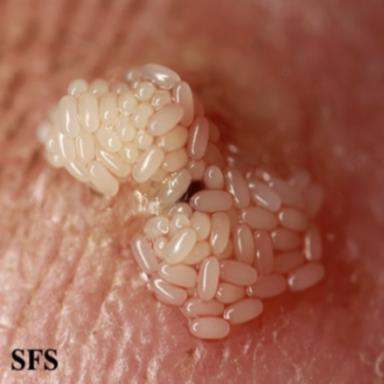Tungiasis: (37, 64, 325, 339)
